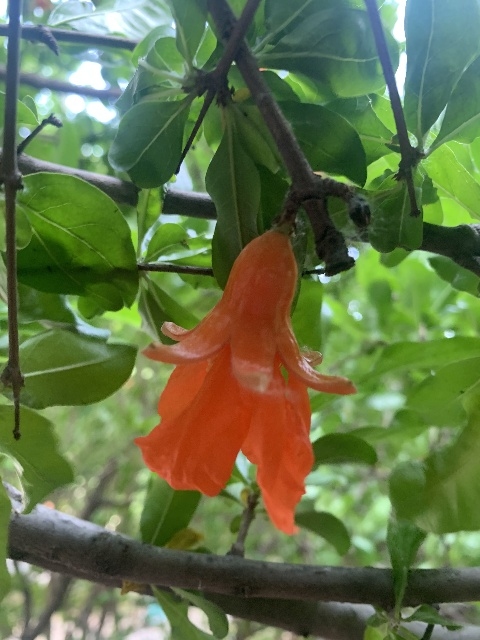flower: (135, 230, 356, 533)
